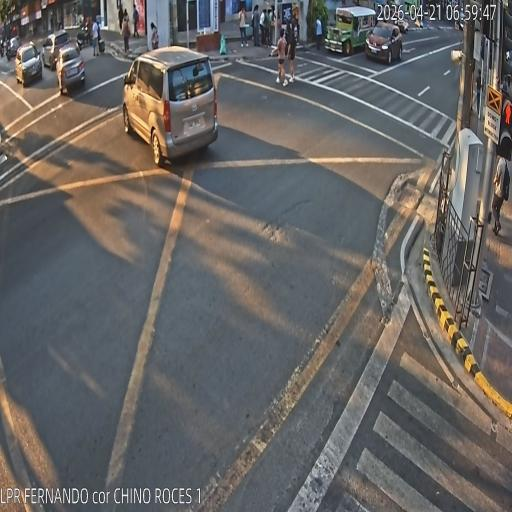Car: (124, 44, 220, 167), (364, 22, 402, 63), (54, 45, 84, 94), (14, 42, 43, 87), (42, 30, 73, 70), (10, 33, 22, 57)
Motor: (76, 24, 94, 49), (6, 46, 12, 62), (0, 46, 4, 58)
